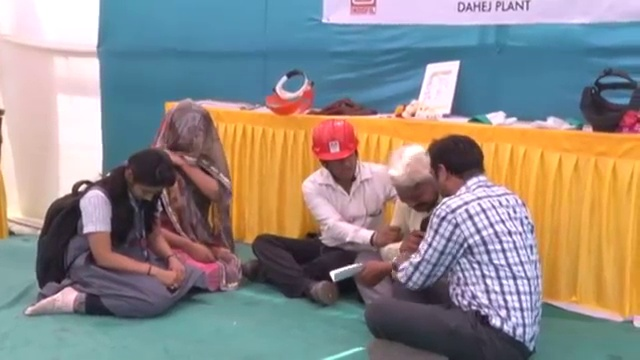helmet: (305, 118, 363, 165)
helmet_off: (427, 134, 491, 208), (159, 105, 220, 167), (388, 143, 439, 216), (117, 148, 174, 207)
helmet_on: (305, 114, 369, 186)
person: (336, 132, 547, 356), (242, 104, 405, 305), (22, 145, 201, 321), (143, 93, 238, 293), (354, 137, 439, 302)
